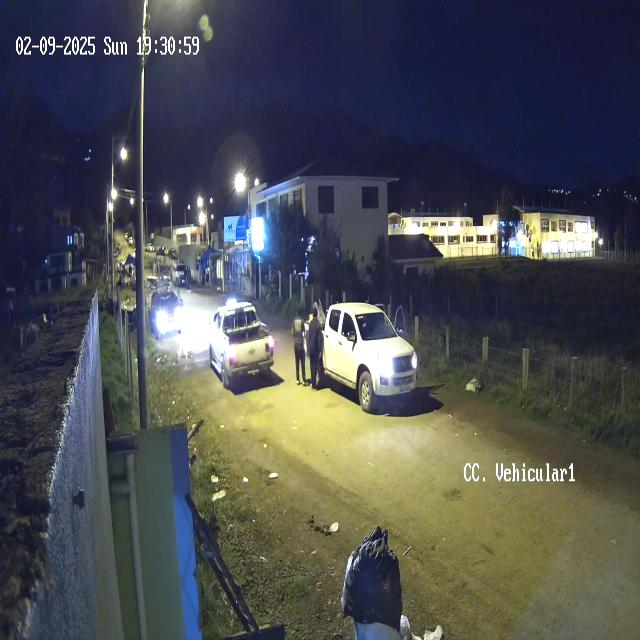CMT: (305, 302, 417, 412)
